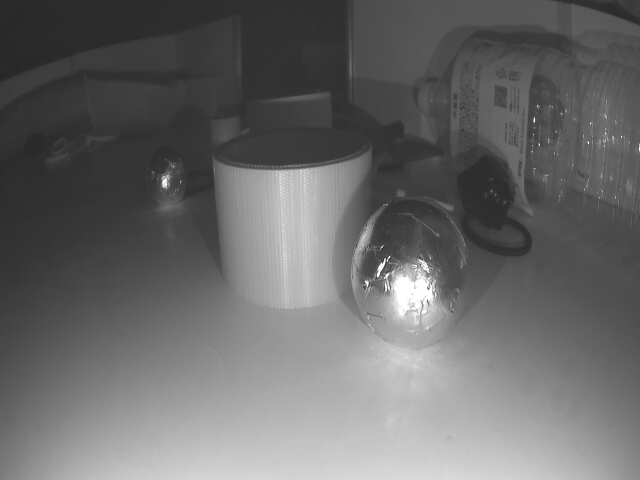Dead: (456, 159, 512, 227)
Live: (349, 191, 470, 350), (141, 147, 189, 209)
Point: (185, 77, 234, 120)
